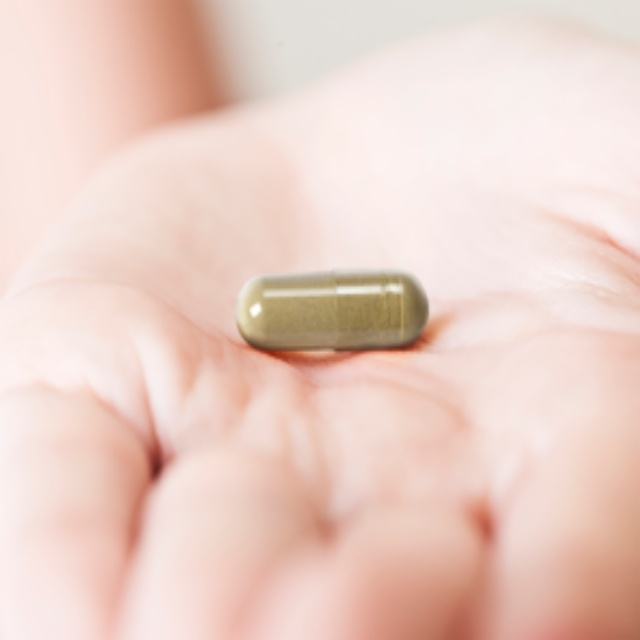pill: (109, 104, 201, 137)
